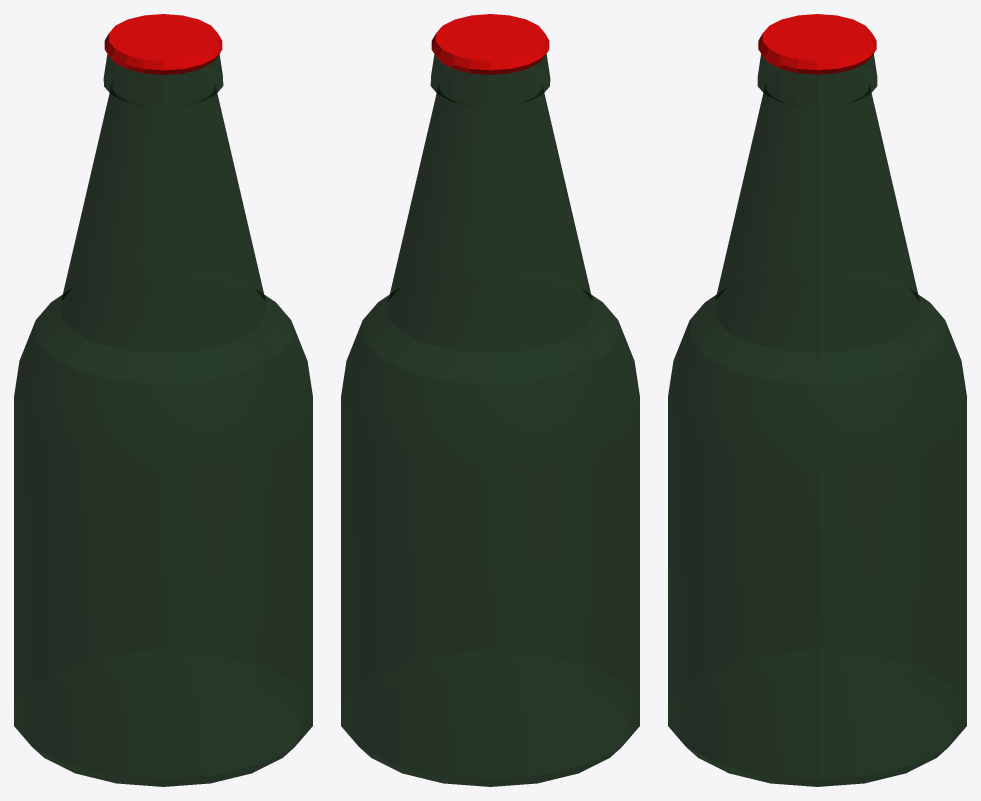
Rendered from Beerbottle.FBX.
The picture shows the model from 3 angles, left to right: view 1: azimuth 30°, elevation 25°; view 2: azimuth 150°, elevation 25°; view 3: azimuth 270°, elevation 25°; orthographic projection.
Visible parts, largest first — view 1: Cylinder001; view 2: Cylinder001; view 3: Cylinder001.
Part boxes in pixels (bbox=[...]): Cylinder001: bbox=[14, 14, 312, 786]; Cylinder001: bbox=[341, 14, 639, 786]; Cylinder001: bbox=[668, 14, 966, 786].
Bounding box in the file's own units: 36.03 × 90.57 × 35.48.
